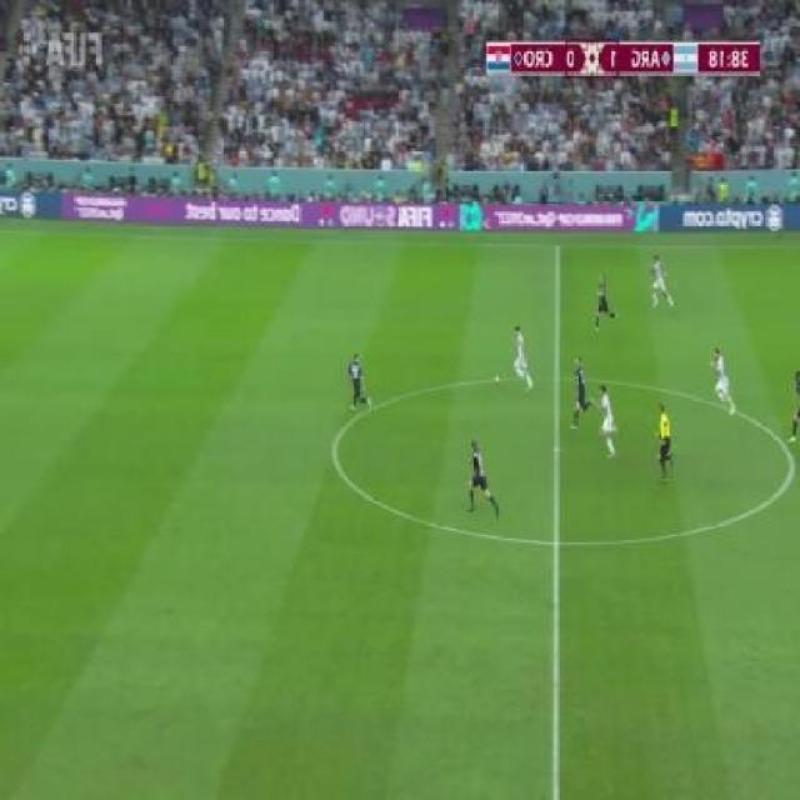13: (552, 237, 563, 258)
14: (550, 367, 564, 391)
15: (546, 530, 565, 556)
c: (318, 429, 352, 479), (782, 444, 800, 494)
